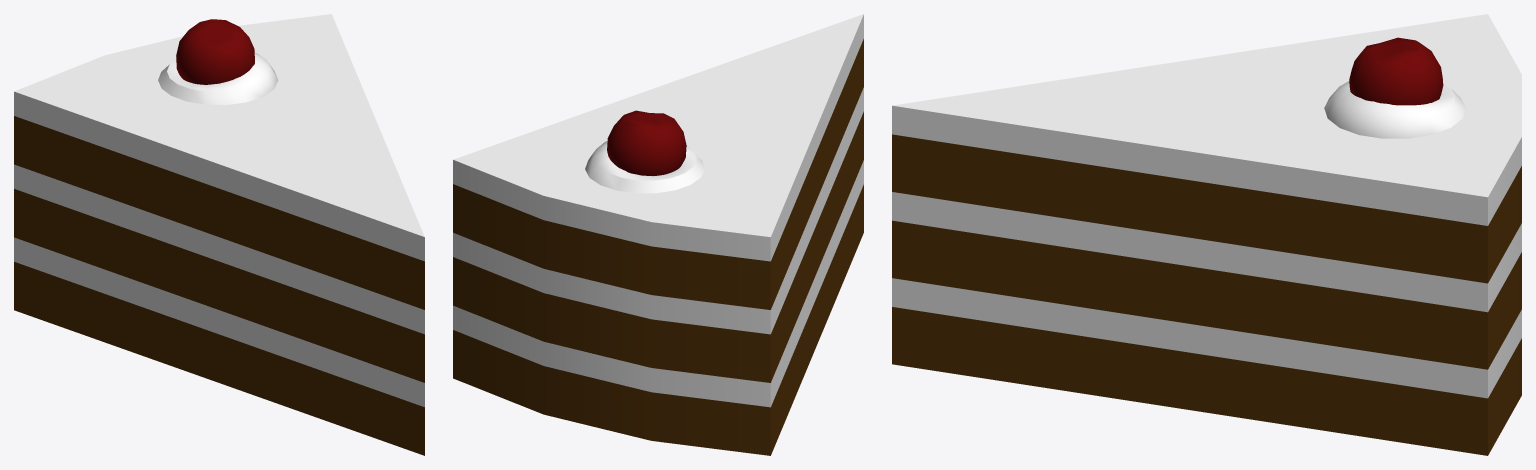
The model's file is Kuchen.fbx.
3 renders of one model, left to right at view 1: azimuth 30°, elevation 25°; view 2: azimuth 150°, elevation 25°; view 3: azimuth 270°, elevation 25°, orthographic. The views are drawn at different scales.
Parts seen in each view (by area): view 1: Cylinder_5, Sphere, Torus; view 2: Cylinder_5, Sphere, Torus; view 3: Cylinder_5, Sphere, Torus.
Boxes of the visible parts, left/top/right/bottom form: Cylinder_5: left=14, top=14, right=424, bottom=455; Sphere: left=176, top=19, right=254, bottom=84; Torus: left=158, top=53, right=278, bottom=104; Cylinder_5: left=453, top=14, right=863, bottom=455; Sphere: left=607, top=110, right=686, bottom=175; Torus: left=585, top=141, right=704, bottom=193; Cylinder_5: left=892, top=14, right=1521, bottom=455; Sphere: left=1349, top=37, right=1443, bottom=105; Torus: left=1324, top=81, right=1465, bottom=138.
Size of the model in its own units: 13.68 by 11.16 by 19.86.
